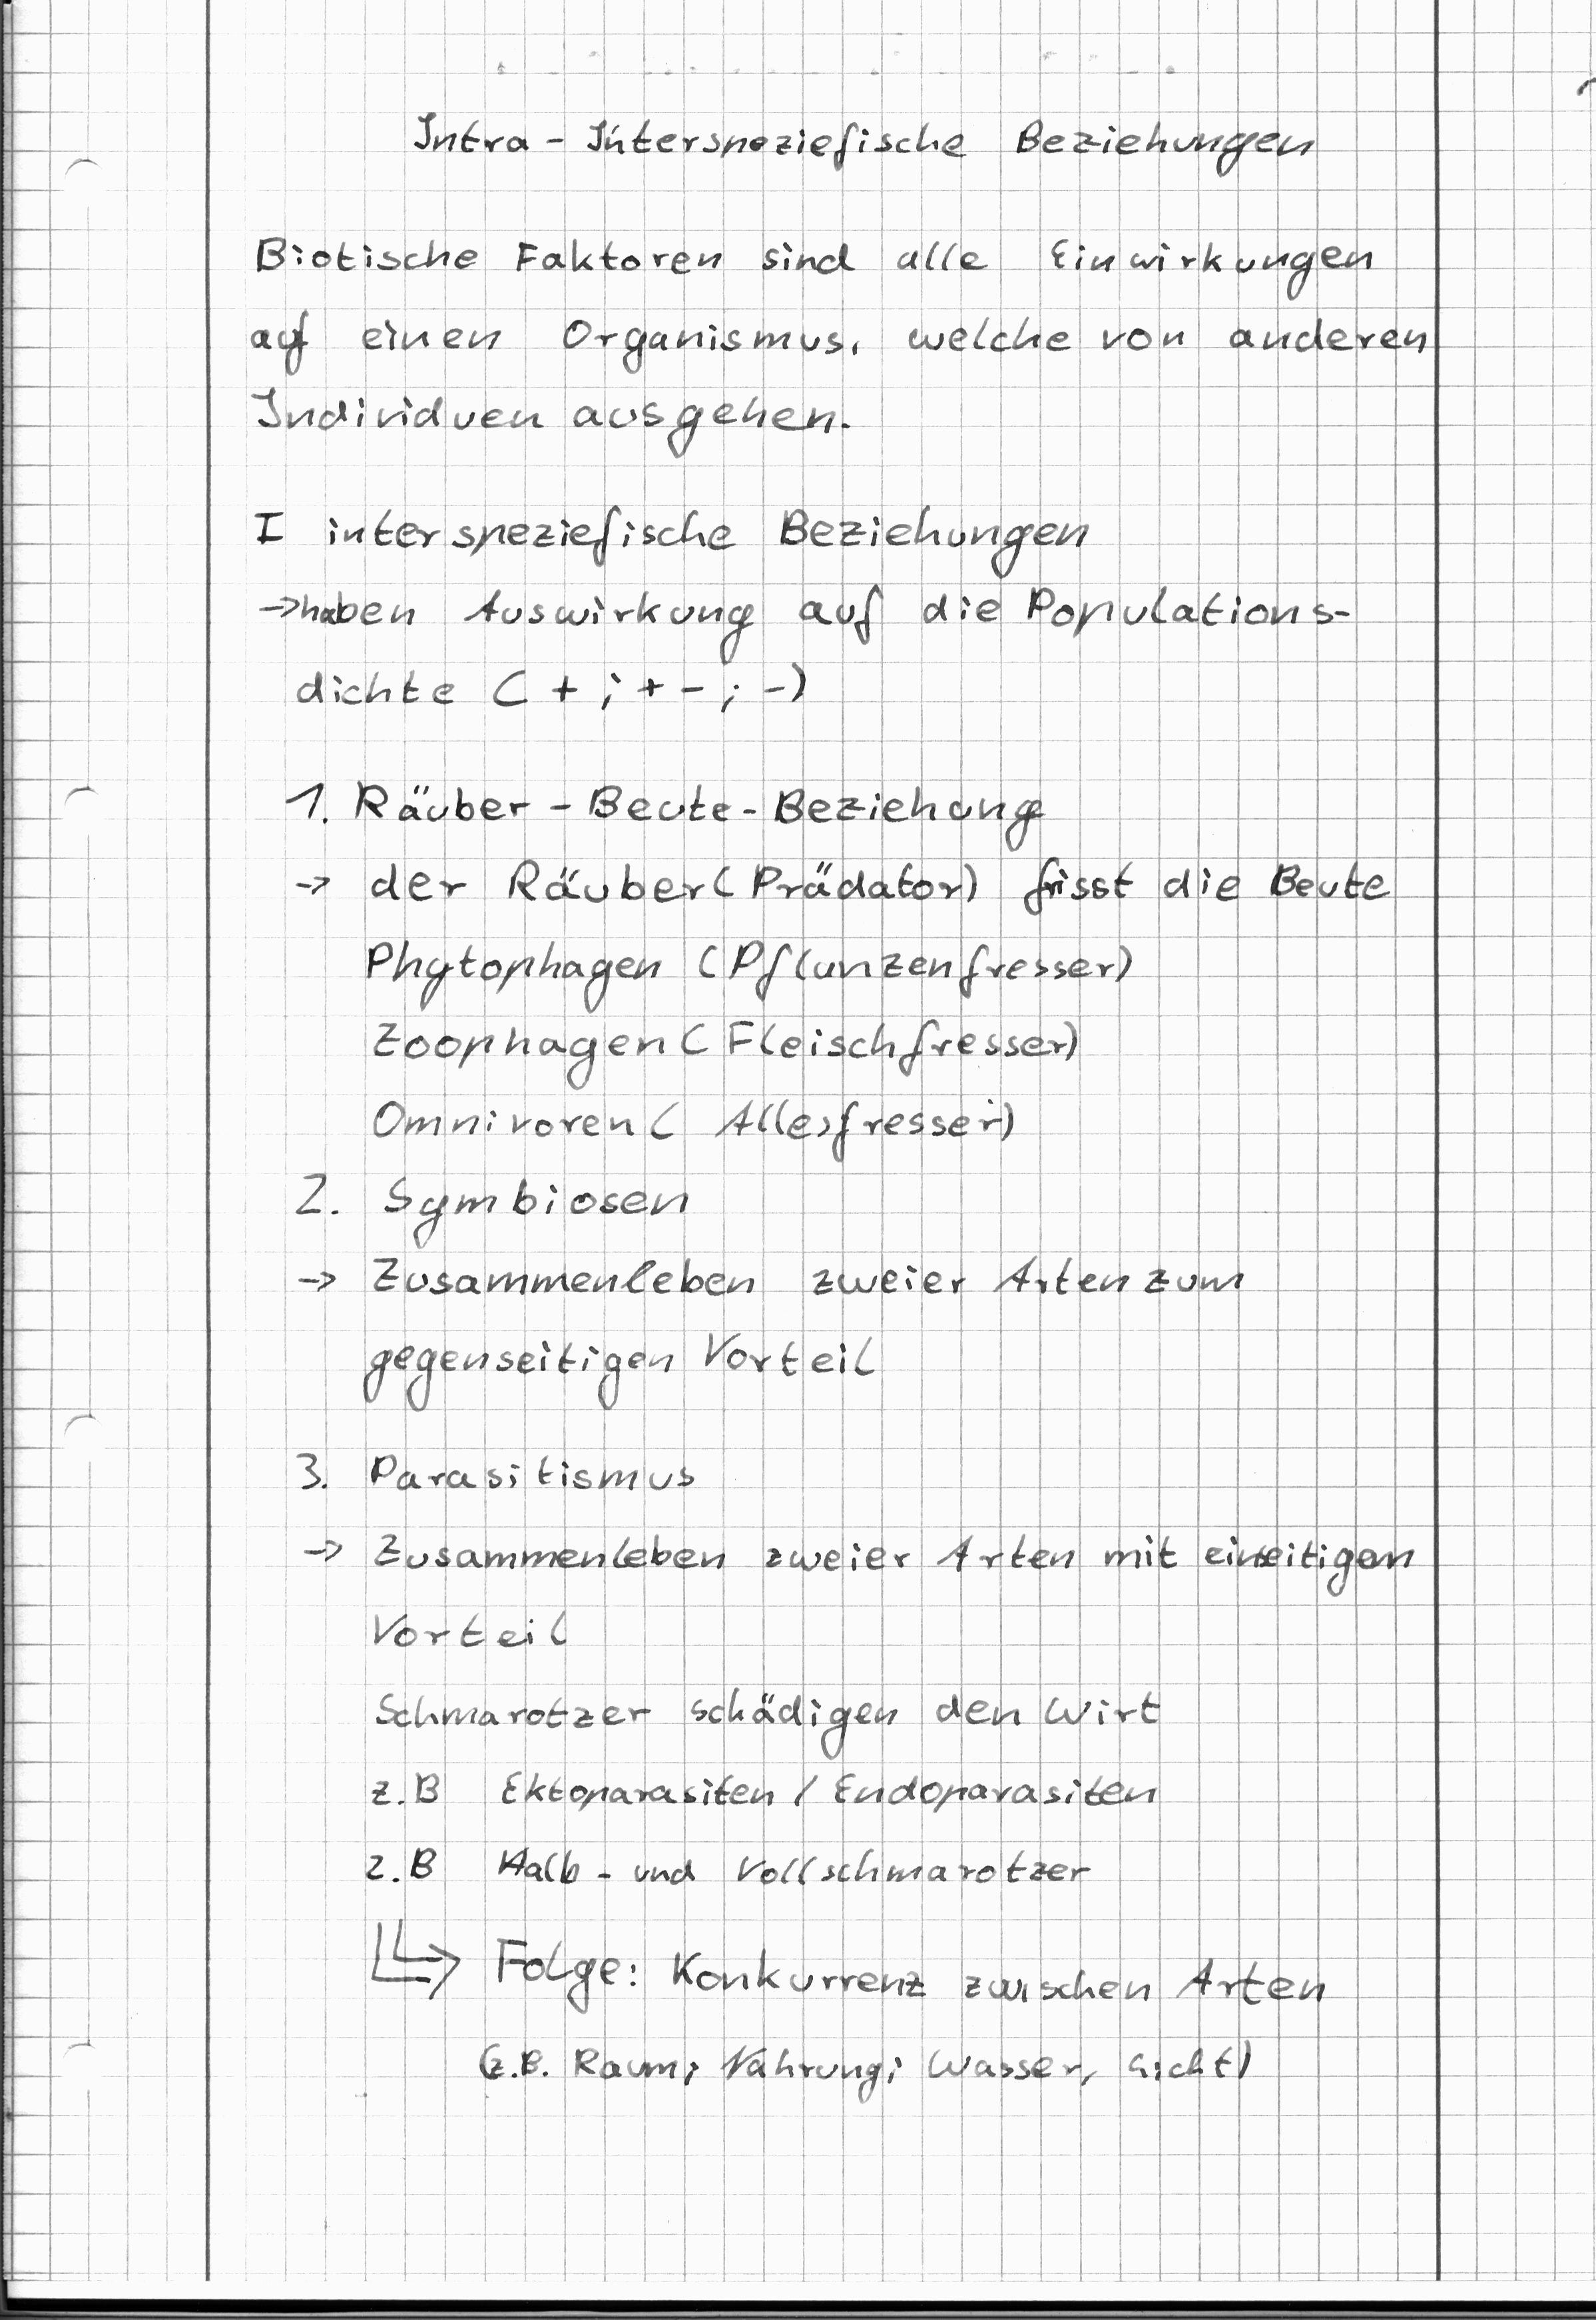word: (357, 848, 1404, 1164), (241, 214, 1438, 467), (245, 496, 1368, 719), (353, 1147, 1256, 1424), (356, 1675, 1168, 1909), (467, 1925, 1338, 2105), (371, 1523, 1423, 1659), (398, 96, 1318, 186), (276, 757, 1053, 854), (362, 1438, 708, 1521), (343, 1892, 481, 2018), (274, 1139, 360, 1317), (280, 1419, 358, 1576), (281, 851, 350, 924)
